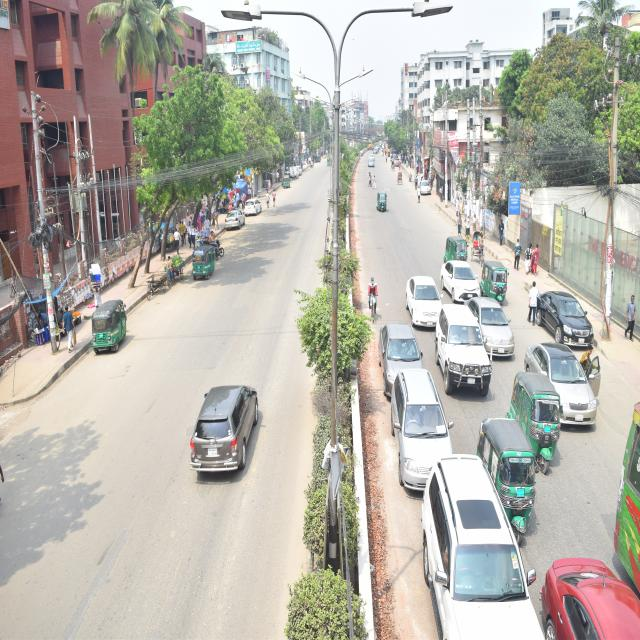bus: (588, 374, 640, 612)
car: (390, 441, 546, 640), (179, 351, 286, 503), (364, 351, 466, 482), (524, 540, 640, 640), (514, 336, 618, 422), (422, 291, 498, 384), (534, 273, 601, 358), (370, 315, 444, 388), (467, 277, 519, 368), (401, 253, 448, 339), (435, 242, 482, 301), (216, 191, 247, 243), (238, 180, 266, 226), (283, 140, 307, 187), (418, 174, 438, 205), (360, 146, 380, 176)
motorbike: (198, 227, 229, 265)
